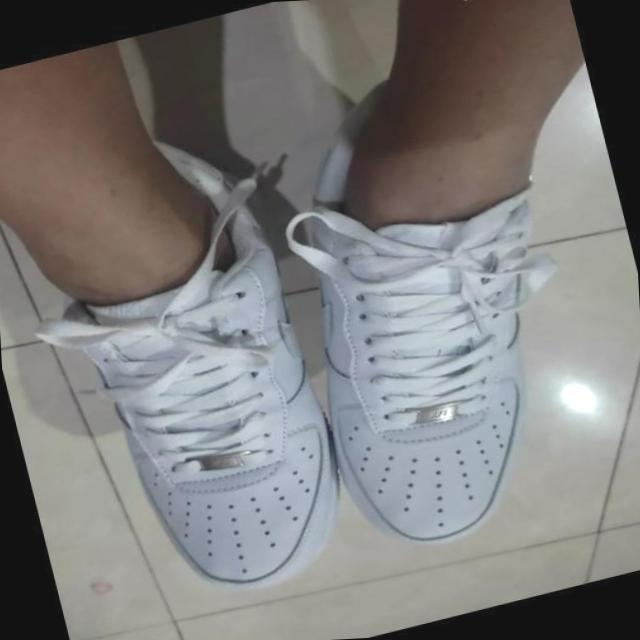nike_fake_airforce: (245, 49, 628, 572), (24, 113, 372, 619)
